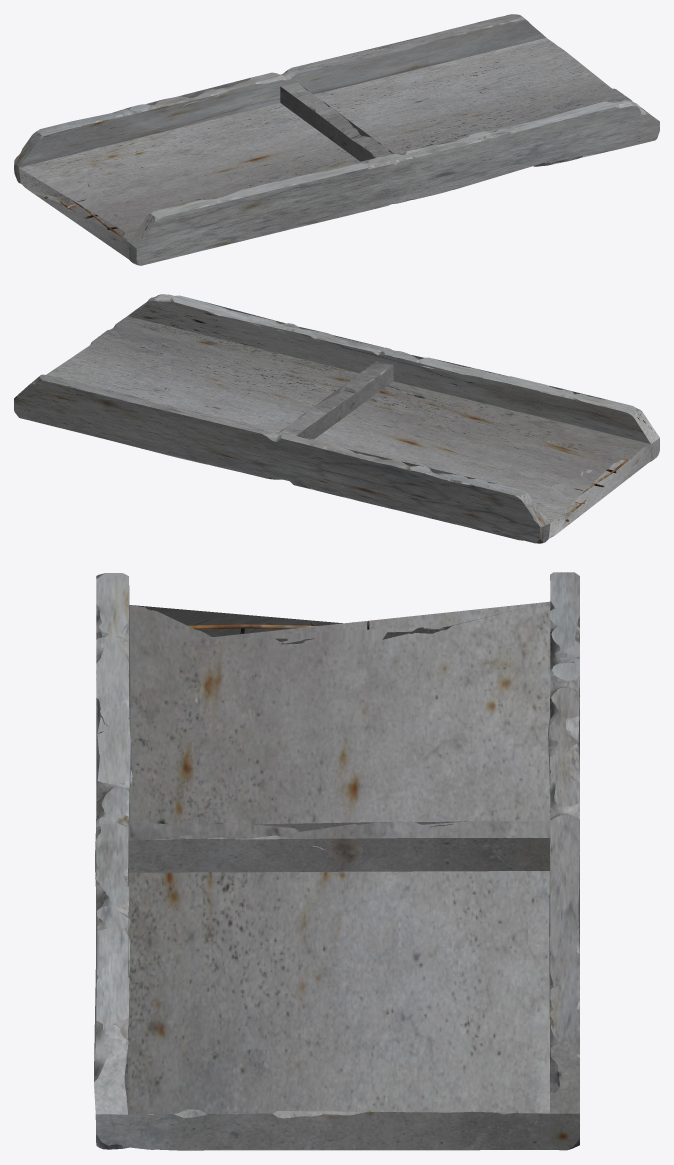
Rendered from plita_bet2_001.fbx.
The picture shows the model from 3 angles, top to bottom: view 1: azimuth 30°, elevation 25°; view 2: azimuth 150°, elevation 25°; view 3: azimuth 270°, elevation 25°; orthographic projection. The views are drawn at different scales.
Parts seen in each view (by area): view 1: plita_bet_002_3; view 2: plita_bet_002_3; view 3: plita_bet_002_3.
Part boxes in pixels (x1,y1,x2,y2): plita_bet_002_3: (14,14,659,265); plita_bet_002_3: (14,294,659,543); plita_bet_002_3: (94,572,579,1150).
Size of the model in its own units: 605 by 50.12 by 241.
2 materials, 2 textured.
